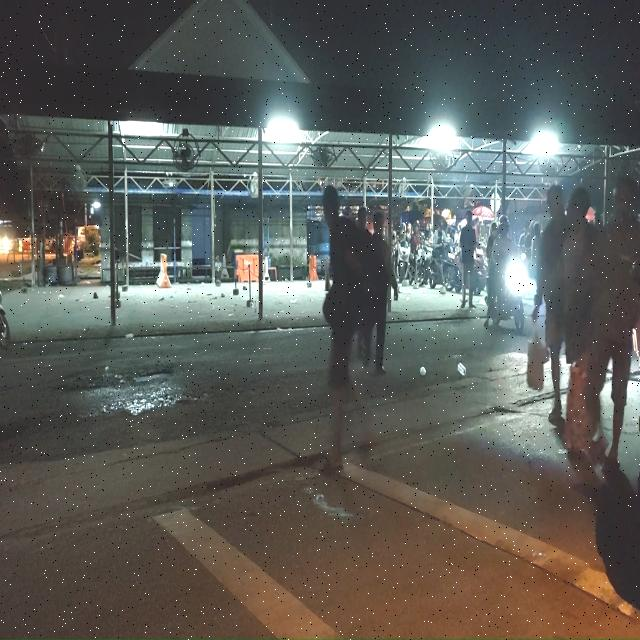Golongan II: (490, 257, 528, 334), (426, 245, 462, 292), (442, 243, 462, 293), (425, 246, 446, 290), (470, 247, 487, 296), (408, 245, 427, 286), (394, 243, 412, 283)
